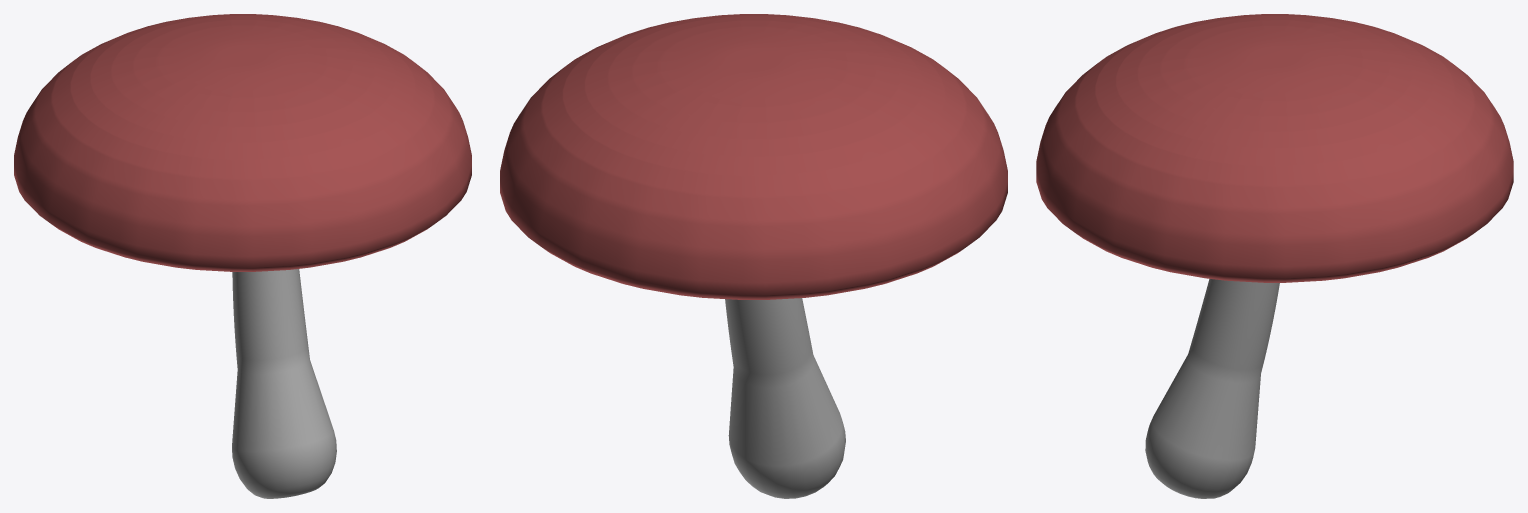
Rendered from Mushroom.fbx.
3 views of the same model, side by side, from view 1: azimuth 30°, elevation 25°; view 2: azimuth 150°, elevation 25°; view 3: azimuth 270°, elevation 25° (orthographic). The views are drawn at different scales.
Visible parts, largest first — view 1: Mushroom_0; view 2: Mushroom_0; view 3: Mushroom_0.
Boxes of the visible parts, x1,y1,x2,y2 form: Mushroom_0: [14, 14, 471, 498]; Mushroom_0: [500, 14, 1007, 498]; Mushroom_0: [1036, 14, 1513, 498].
Size of the model in its own units: 2.07 by 2.07 by 2.07.
